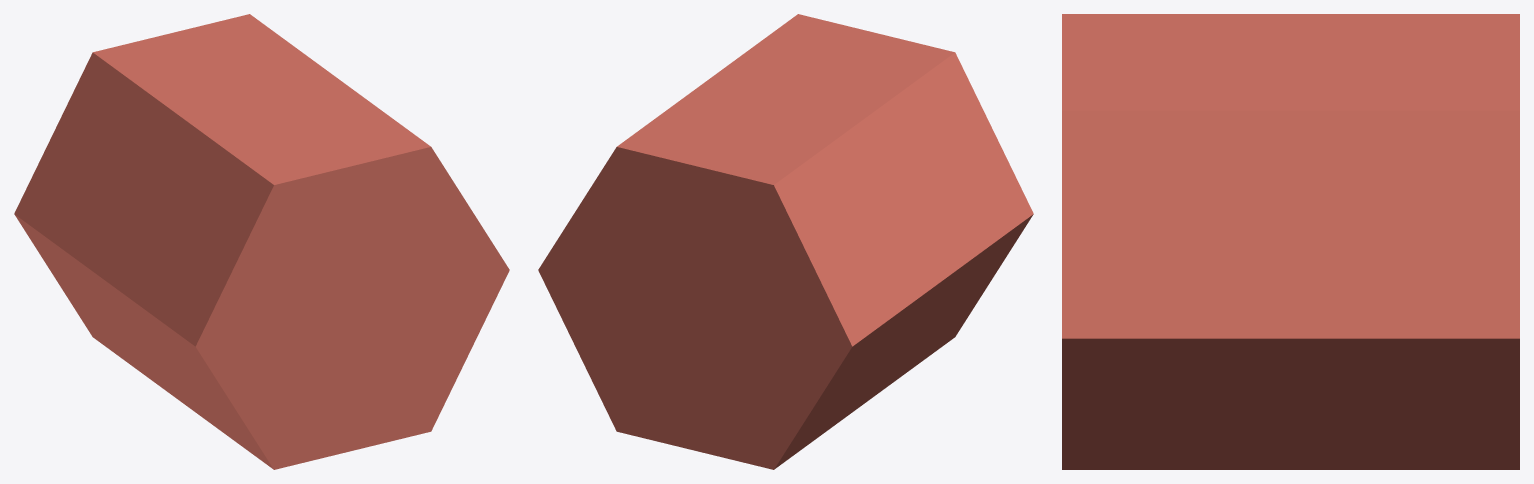
File: liulengzhu.FBX
3 renders of one model, left to right at view 1: azimuth 30°, elevation 25°; view 2: azimuth 150°, elevation 25°; view 3: azimuth 270°, elevation 25°, orthographic. The views are drawn at different scales.
Visible parts, largest first — view 1: TRM_SRF (×4); view 2: TRM_SRF (×4); view 3: TRM_SRF (×3).
Part boxes in pixels (x1,y1,x2,y2): TRM_SRF (×4): [14, 14, 509, 469]; TRM_SRF (×4): [538, 14, 1033, 469]; TRM_SRF (×3): [1062, 14, 1519, 469].
Bounding box in the file's own units: 47.24 × 40.91 × 47.24.
